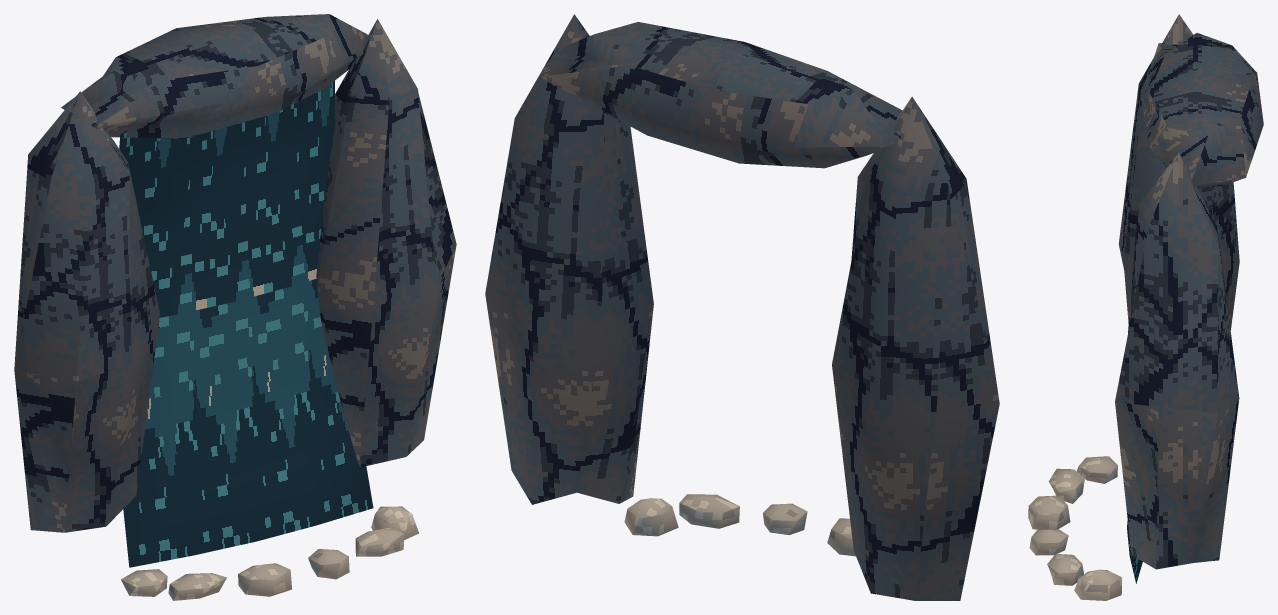
File: lake.waterfall.glb
3 views of the same model, side by side, from view 1: azimuth 30°, elevation 25°; view 2: azimuth 150°, elevation 25°; view 3: azimuth 270°, elevation 25° (orthographic). The views are drawn at different scales.
Visible parts, largest first — view 1: kit_lip, kit_shell_falls, kit_foam; view 2: kit_lip, kit_foam; view 3: kit_lip, kit_foam.
Boxes of the visible parts, box(x1,y1,x2,y2) form: kit_lip: box(14, 14, 456, 532); kit_shell_falls: box(119, 81, 373, 567); kit_foam: box(121, 506, 419, 600); kit_lip: box(485, 14, 999, 600); kit_foam: box(624, 494, 855, 556); kit_lip: box(1115, 14, 1263, 569); kit_foam: box(1028, 456, 1121, 600).
Bounding box in the file's own units: 6.18 × 6.57 × 3.03.
Materials: 3 (3 with a texture image).
